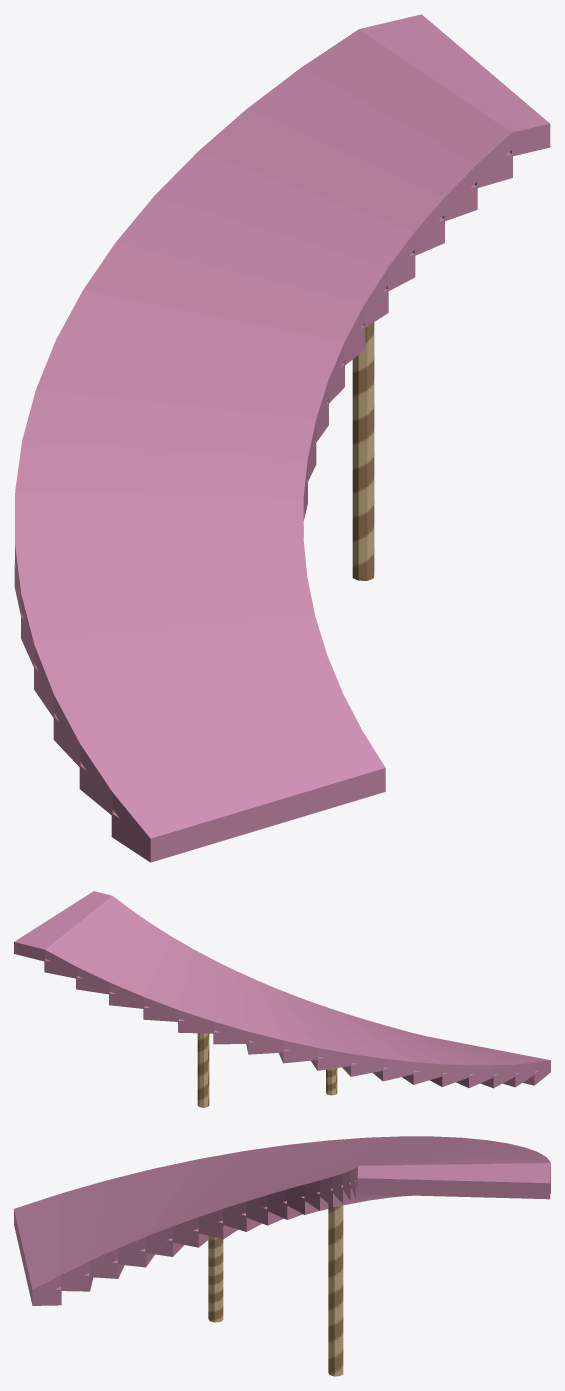
File: SpieralneSchody.fbx
The picture shows the model from 3 angles, top to bottom: view 1: azimuth 30°, elevation 25°; view 2: azimuth 150°, elevation 25°; view 3: azimuth 270°, elevation 25°; orthographic projection. The views are drawn at different scales.
Parts seen in each view (by area): view 1: SpiralneSchody_Collier, SpiralneSchody; view 2: SpiralneSchody_Collier, SpiralneSchody; view 3: SpiralneSchody_Collier, SpiralneSchody.
Part boxes in pixels (x1,y1,x2,y2): SpiralneSchody_Collier: [15, 15, 549, 855]; SpiralneSchody: [14, 14, 550, 862]; SpiralneSchody_Collier: [14, 891, 550, 1073]; SpiralneSchody: [14, 891, 550, 1107]; SpiralneSchody_Collier: [14, 1136, 550, 1299]; SpiralneSchody: [14, 1163, 550, 1376].
Size of the model in its own units: 3817 by 2115 by 3934.
2 materials, 1 textured.
